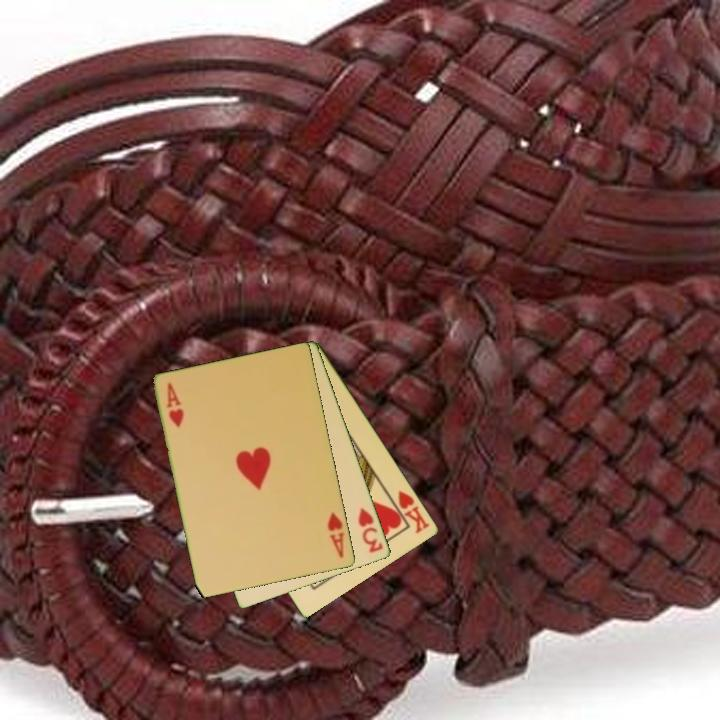3h: (355, 504, 386, 556)
Ah: (324, 509, 348, 561), (163, 379, 187, 431)
Kh: (386, 487, 433, 537)
